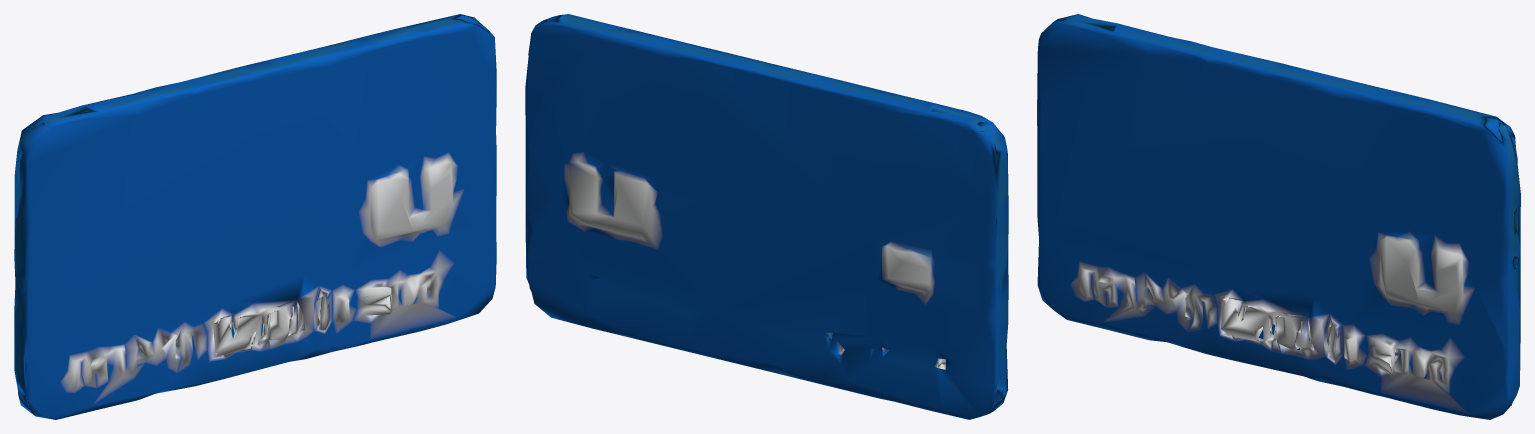
Rendered from gen3d-credit-card-lod0.glb.
3 views of the same model, side by side, from view 1: azimuth 30°, elevation 25°; view 2: azimuth 150°, elevation 25°; view 3: azimuth 330°, elevation 25° (orthographic).
Visible parts, largest first — view 1: part_0; view 2: part_0; view 3: part_0.
Boxes of the visible parts, x1=… form: part_0: x1=14, y1=14, x2=496, y2=419; part_0: x1=525, y1=14, x2=1008, y2=419; part_0: x1=1037, y1=14, x2=1520, y2=419.
Bounding box in the file's own units: 1.66 × 1 × 0.1211.
